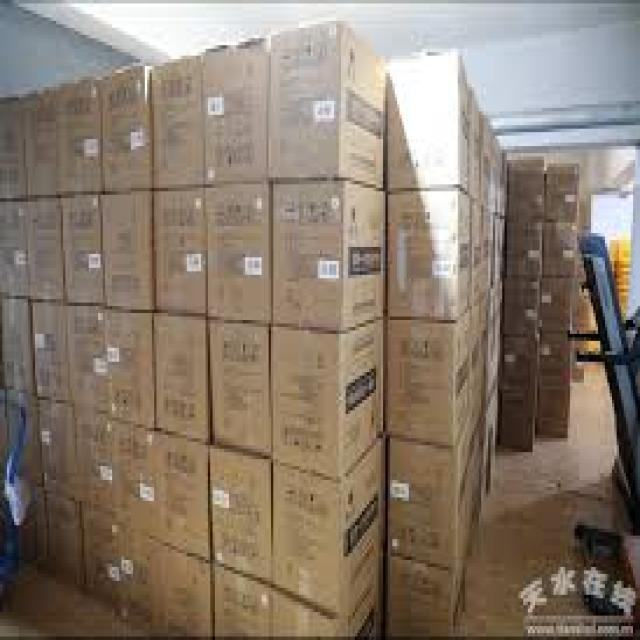cardboard: (269, 14, 383, 184), (271, 438, 378, 619), (269, 171, 383, 331), (271, 320, 378, 473), (383, 417, 477, 567), (386, 45, 477, 188), (383, 484, 467, 637), (383, 303, 474, 442), (210, 560, 374, 637), (383, 181, 470, 316), (206, 438, 273, 588), (201, 35, 268, 177), (203, 178, 271, 317), (208, 313, 271, 459), (147, 306, 206, 435), (147, 424, 206, 553), (150, 181, 203, 316), (98, 52, 150, 188), (149, 49, 201, 181), (98, 184, 150, 313), (145, 539, 212, 637), (100, 306, 152, 424), (54, 63, 100, 191), (103, 418, 149, 539), (58, 191, 103, 303), (105, 515, 150, 626), (59, 403, 105, 508), (0, 480, 44, 574), (40, 487, 79, 591), (61, 299, 98, 407), (0, 390, 40, 487), (21, 87, 51, 195), (26, 198, 58, 296), (31, 299, 59, 400), (0, 198, 28, 299), (77, 504, 105, 602), (35, 393, 63, 490), (0, 296, 28, 390), (467, 403, 493, 501), (495, 390, 535, 449), (507, 153, 542, 216), (470, 101, 491, 205), (0, 94, 21, 198), (500, 275, 537, 334), (470, 296, 488, 411), (505, 216, 540, 275), (537, 275, 572, 334), (544, 160, 575, 223), (500, 334, 537, 386), (537, 334, 570, 386), (542, 219, 574, 271), (486, 282, 500, 400), (469, 205, 486, 289), (537, 390, 568, 435), (486, 209, 502, 282), (493, 139, 504, 212)
